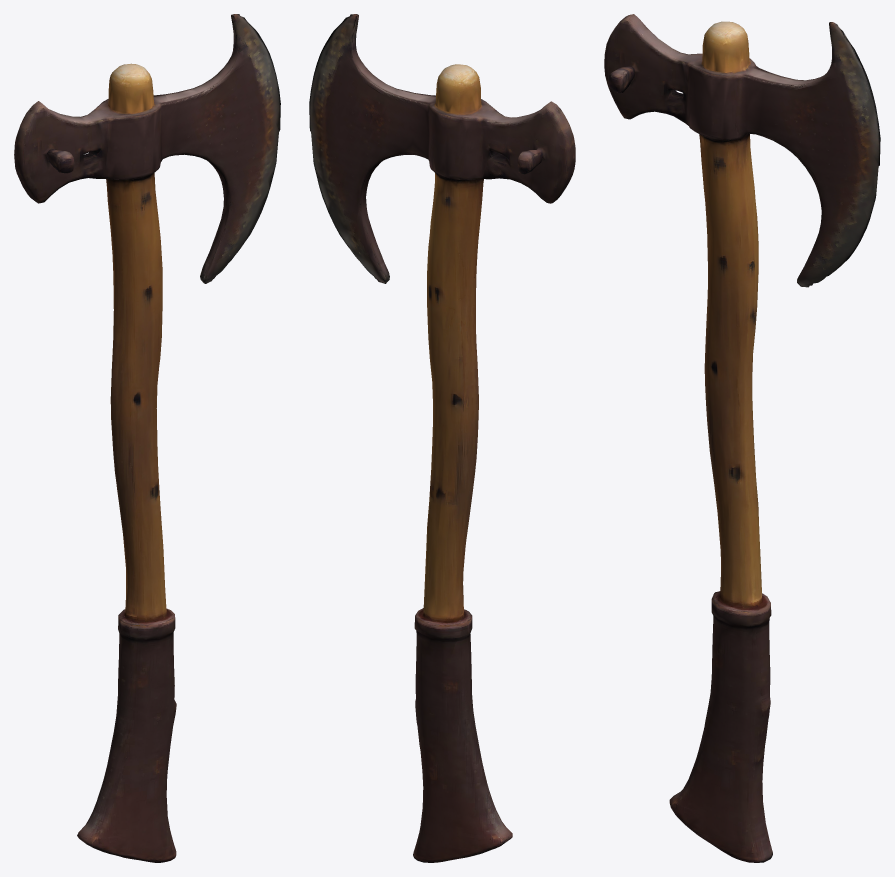
Rendered from asset.glb.
3 renders of one model, left to right at view 1: azimuth 30°, elevation 25°; view 2: azimuth 150°, elevation 25°; view 3: azimuth 330°, elevation 25°, orthographic. The views are drawn at different scales.
Visible parts, largest first — view 1: world; view 2: world; view 3: world.
Part boxes in pixels (<box>): world: <box>14,14,280,862</box>; world: <box>309,14,575,862</box>; world: <box>604,14,880,862</box>.
Size of the model in its own units: 0.3341 by 0.9993 by 0.0963.
1 material, 1 textured.
